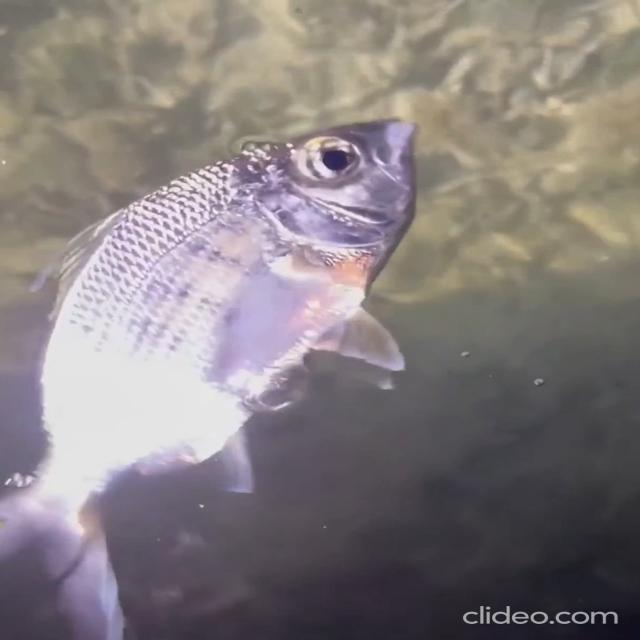fish: (7, 89, 448, 640)
